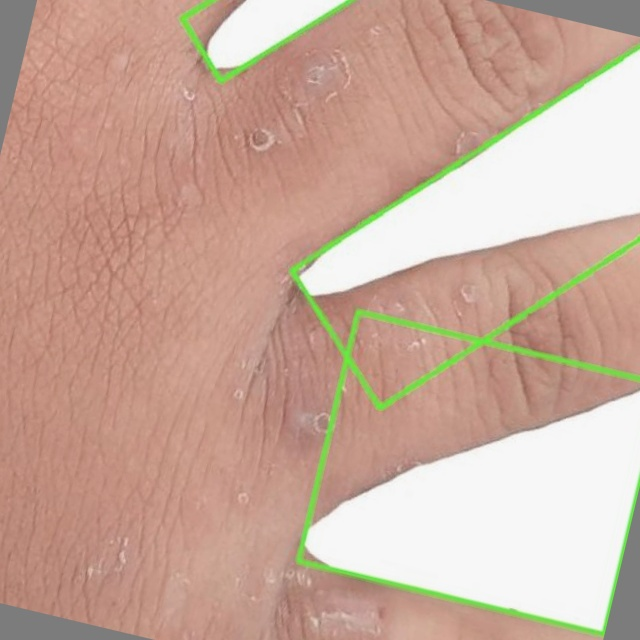Scabies: (291, 68, 639, 412), (298, 311, 639, 633)
